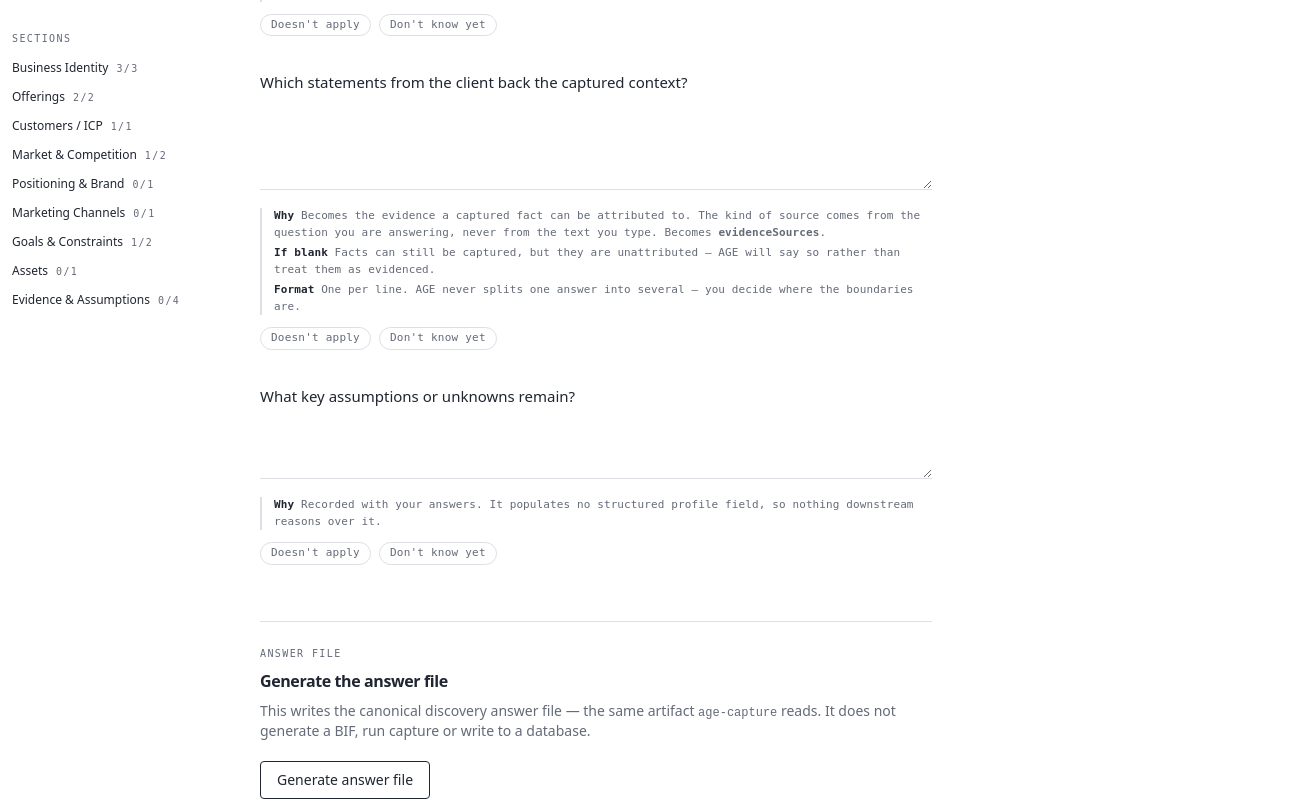
it: DiscoveryForm › submit › surfaces a refusal instead of claiming the file was written
(page scrolled)
Click the button "Generate answer file".
click(345, 780)  # box [260,761,430,798]
(page scrolled)
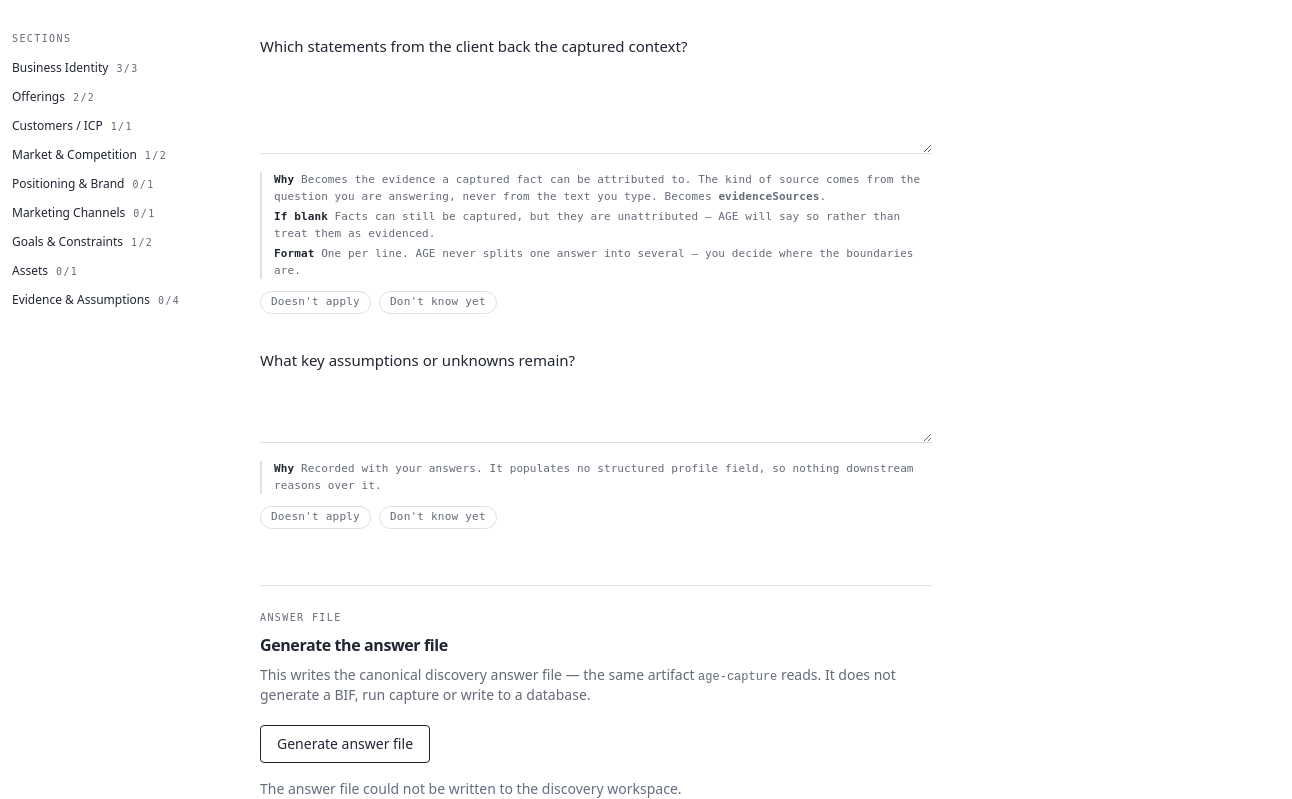
Now the text "could not be written to the discovery workspace" is shown, box [260,779,682,798]
